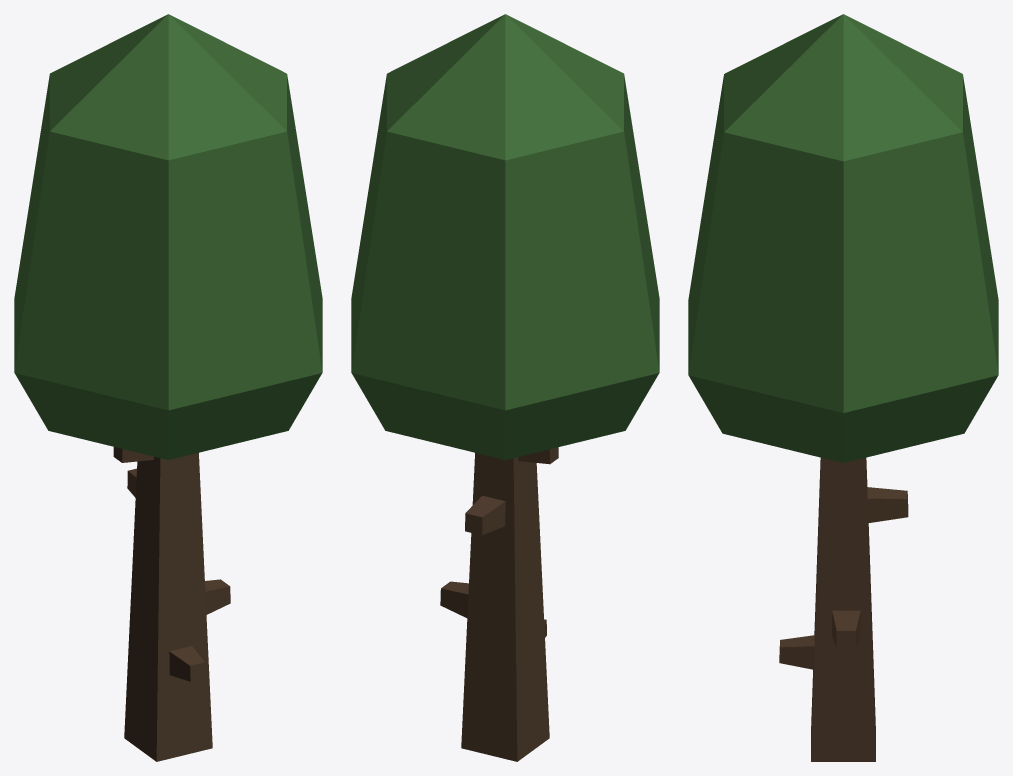
The model's file is canopy-a.glb.
3 renders of one model, left to right at view 1: azimuth 30°, elevation 25°; view 2: azimuth 150°, elevation 25°; view 3: azimuth 270°, elevation 25°, orthographic.
Visible parts, largest first — view 1: tree_default; view 2: tree_default; view 3: tree_default.
Boxes of the visible parts, x1,y1,x2,y2 form: tree_default: (14,14,322,761); tree_default: (351,14,659,761); tree_default: (688,14,998,761).
Bounding box in the file's own units: 4.33 × 9.8 × 3.75.
